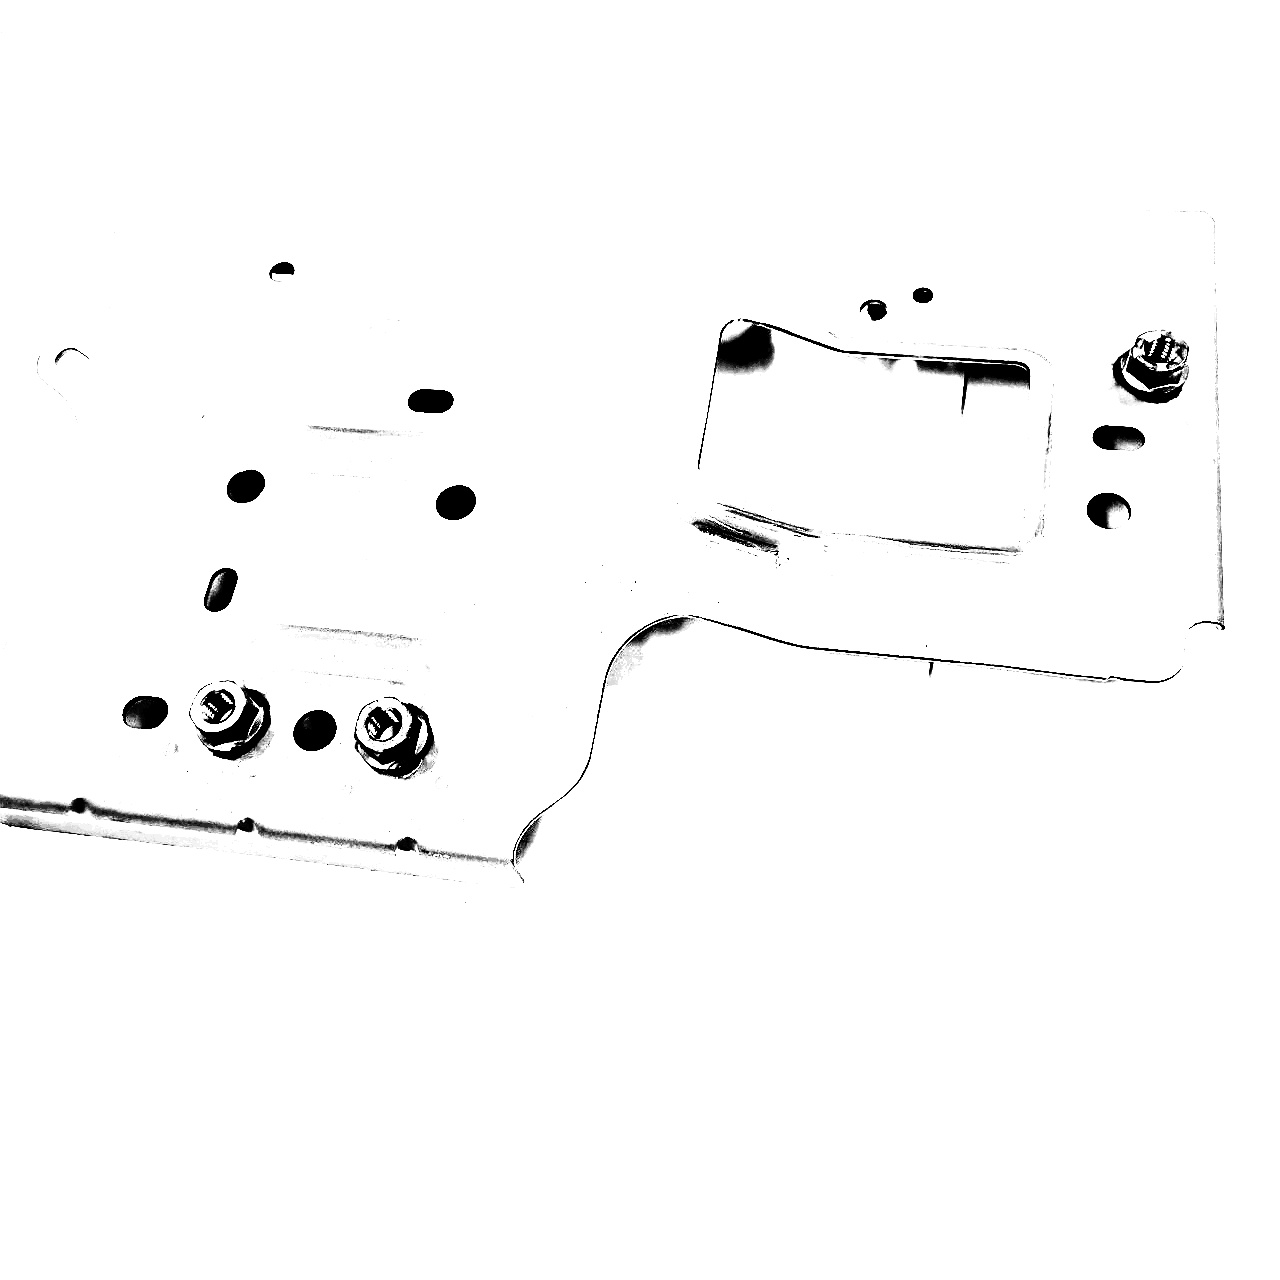dog: (184, 674, 275, 762), (350, 690, 434, 784), (1110, 326, 1194, 408)
